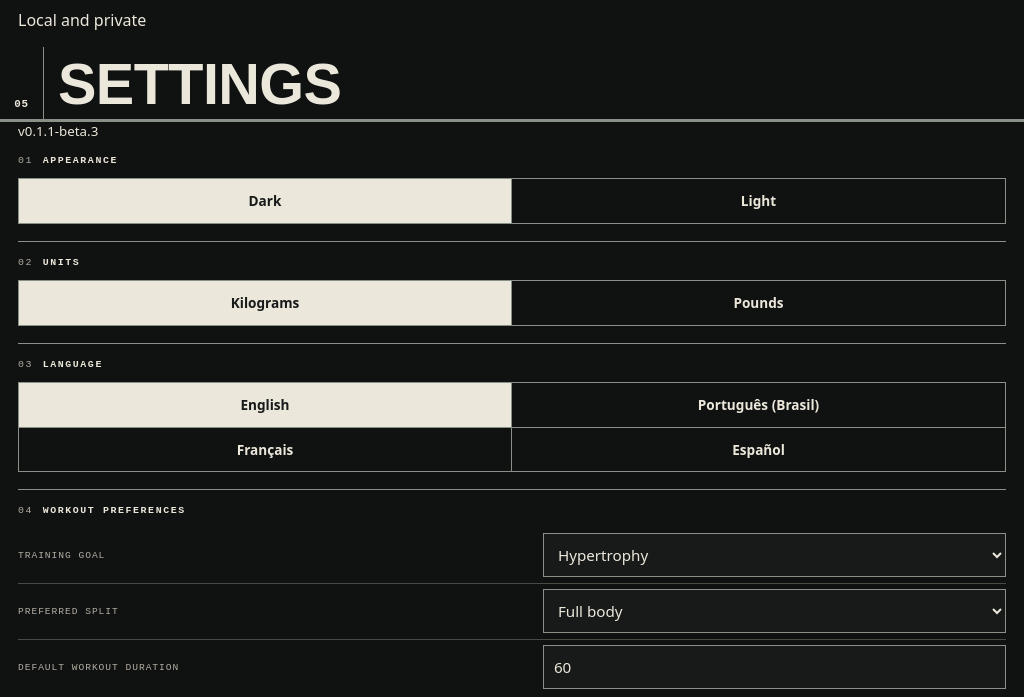
Test: SettingsPage language control › localizes default equipment profile names by their stable id while preserving a custom profile name verbatim
Expected: the heading "05 Settings" is shown, [0, 47, 1023, 122]
Click the button "Français". click: [266, 448]
box: [19, 426, 512, 470]
(page scrolled)
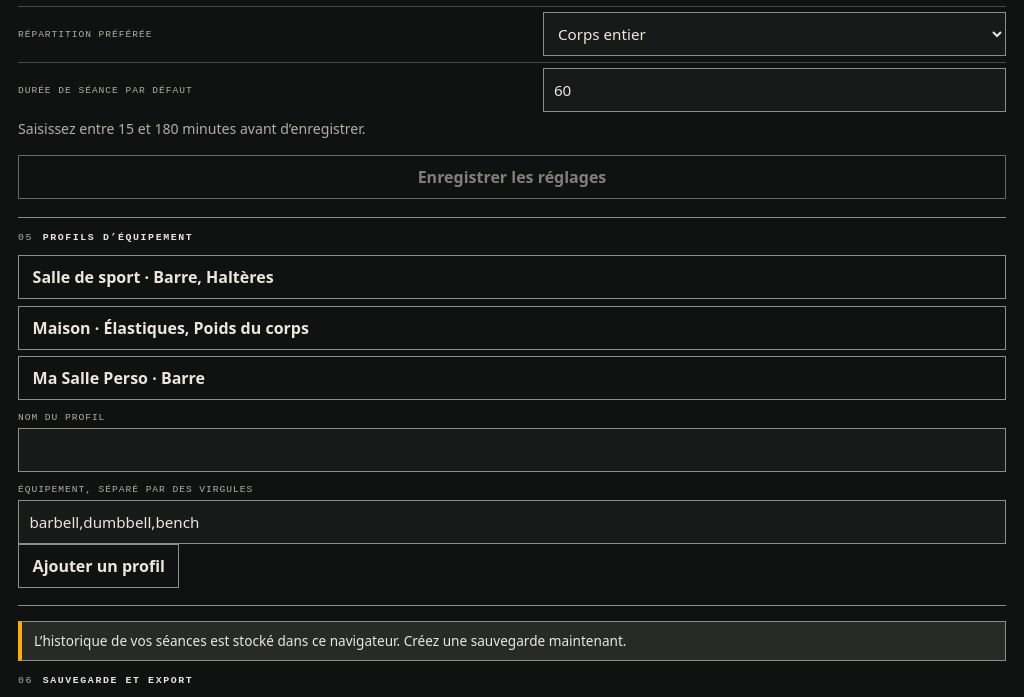
Expected: the button "Salle de sport · Barre, Haltères" is shown, [18, 255, 1006, 299]
Expected: the button "Maison · Élastiques, Poids du corps" is shown, [18, 306, 1006, 350]
Expected: the button "Ma Salle Perso · Barre" is shown, [18, 356, 1006, 400]
